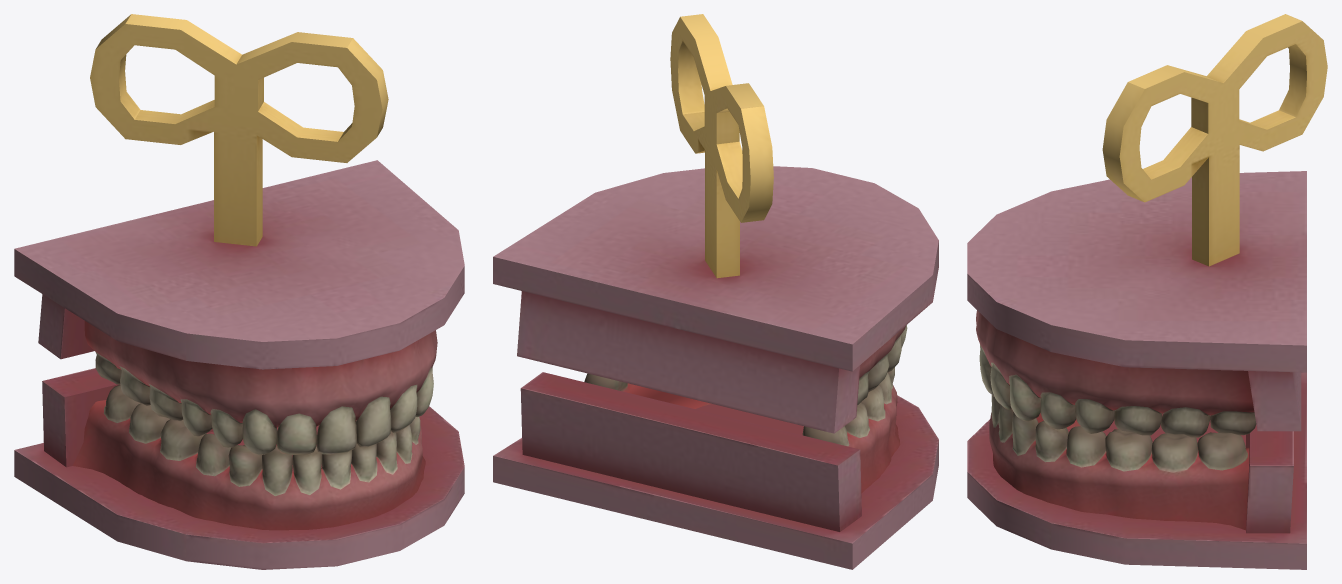
File: 礼物盒.FBX
3 renders of one model, left to right at view 1: azimuth 30°, elevation 25°; view 2: azimuth 150°, elevation 25°; view 3: azimuth 270°, elevation 25°, orthographic.
Visible parts, largest first — view 1: Plane001; view 2: Plane001; view 3: Plane001.
Boxes of the visible parts, x1,y1,x2,y2 form: Plane001: (14,14,464,569); Plane001: (493,14,938,569); Plane001: (967,14,1327,569).
Bounding box in the file's own units: 202 × 232 × 176.
Materials: 1 (1 with a texture image).
